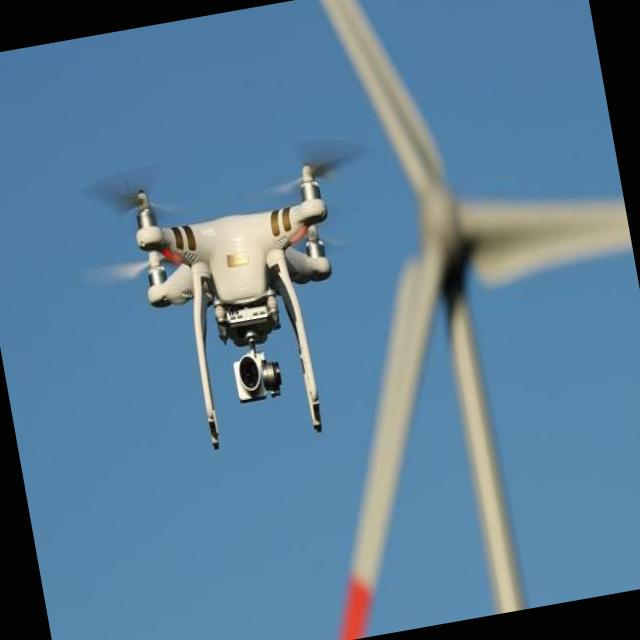drone: (122, 135, 366, 462)
